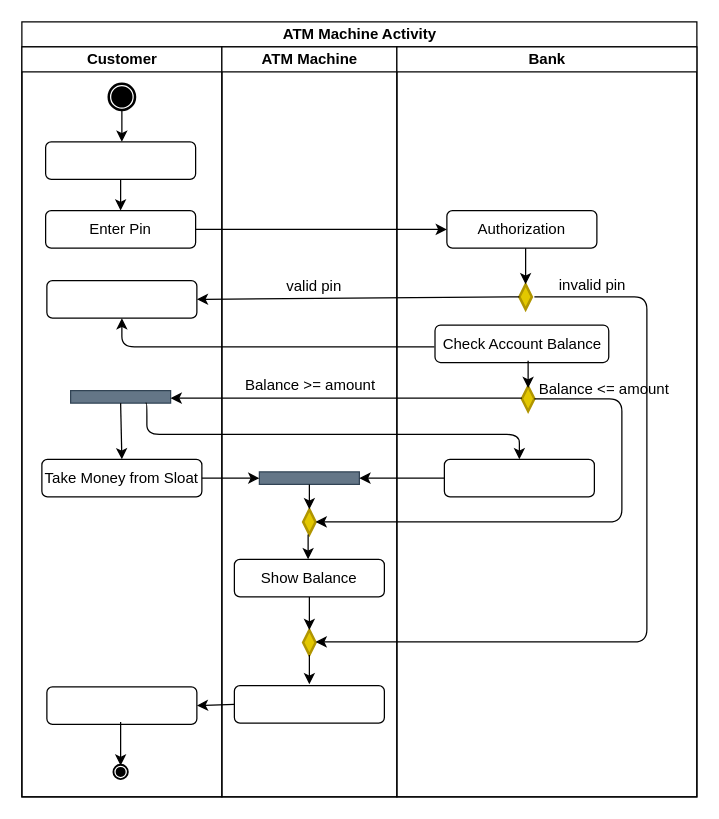
The diagram is 719 pixels wide and 819 high, and some of its shapes have lost their labels. The shapes that lost their labels are listed below. From the top down, each one's box as (x1, y1, x2, y2) in pixels, then its label:
(44, 141, 196, 179): Insert Card
(46, 279, 197, 318): Enter Amount
(443, 458, 594, 497): Debit Account
(46, 686, 197, 724): Take Card
(233, 684, 384, 723): Eject Card
